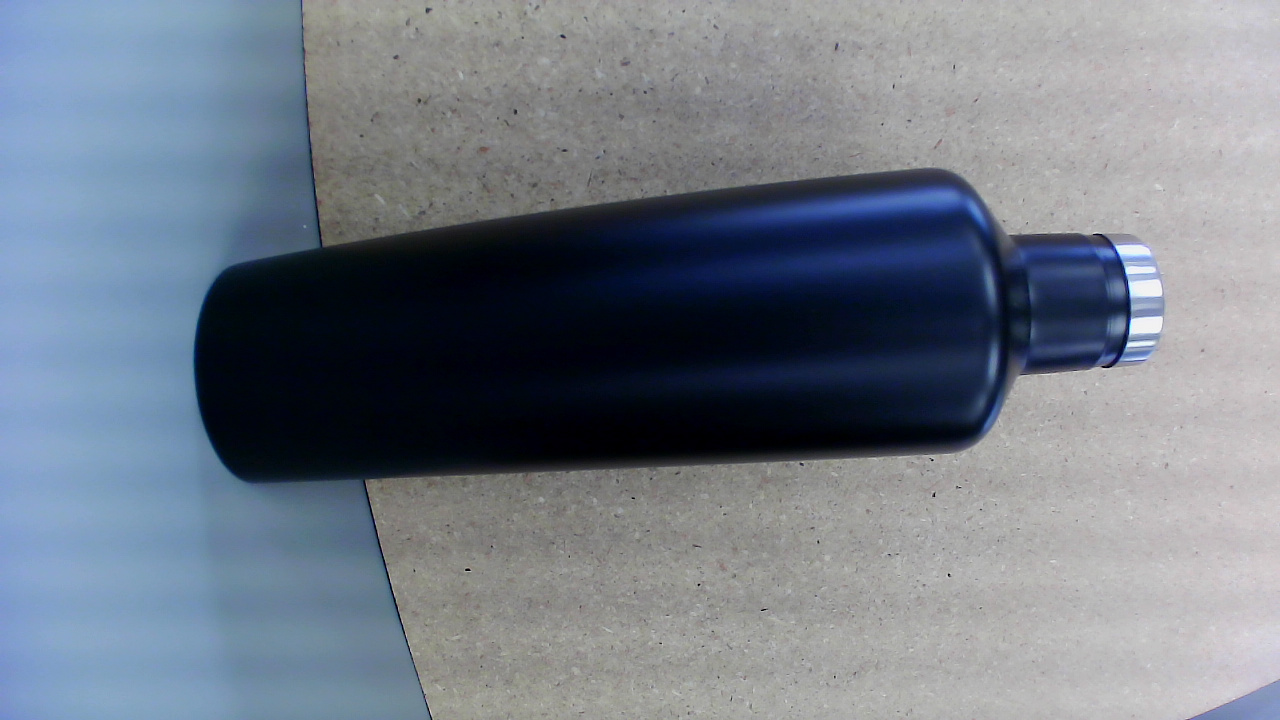neobottle: (181, 163, 1169, 483)
